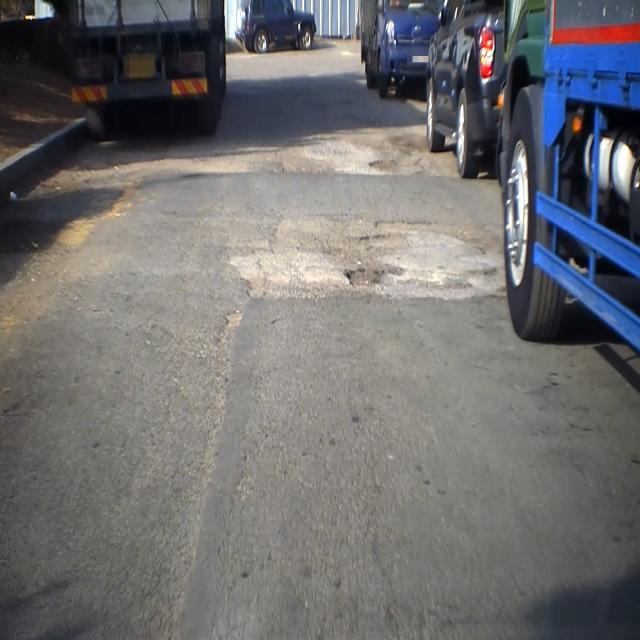Pothole: (344, 259, 407, 297), (354, 222, 407, 252), (367, 157, 423, 176)
